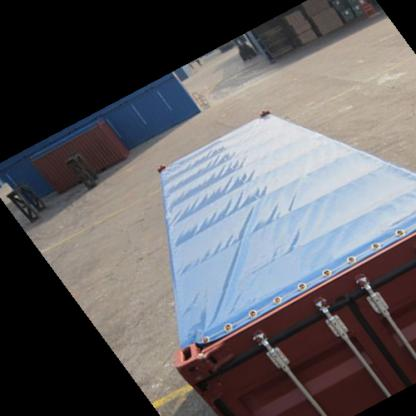Damage: (178, 350, 228, 390), (332, 290, 350, 314)
